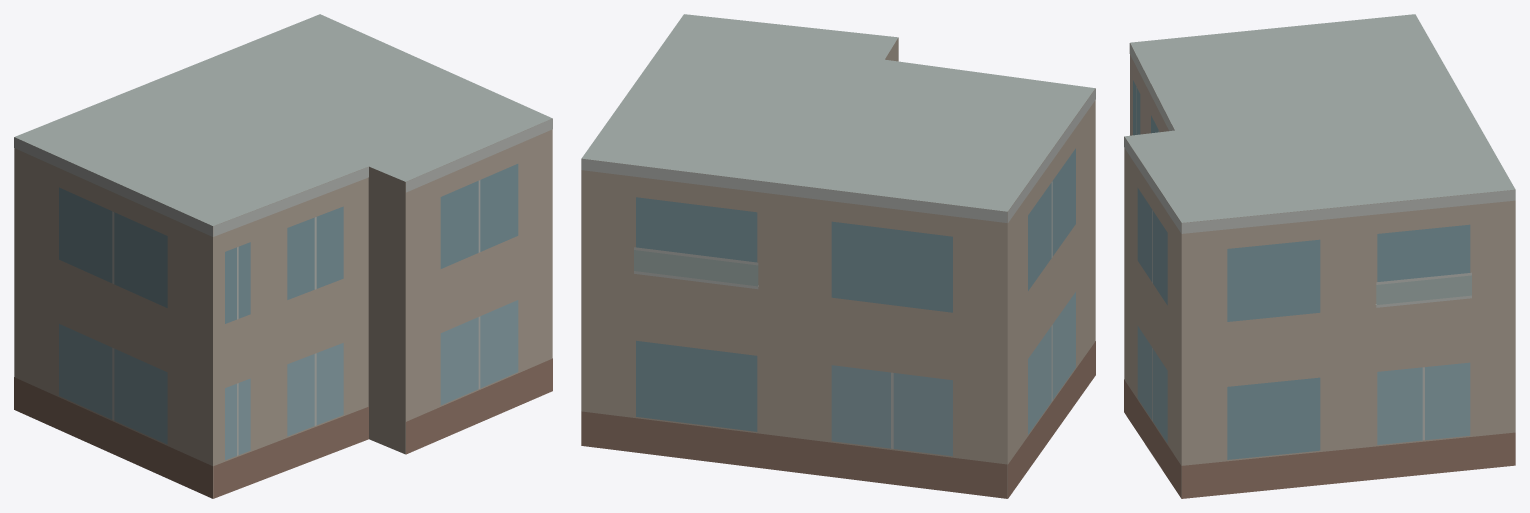
The model's file is survey-upis-32941342.glb.
3 views of the same model, side by side, from view 1: azimuth 30°, elevation 25°; view 2: azimuth 150°, elevation 25°; view 3: azimuth 270°, elevation 25° (orthographic). The views are drawn at different scales.
Visible parts, largest first — view 1: survey-upis-32941342.tmp; view 2: survey-upis-32941342.tmp; view 3: survey-upis-32941342.tmp.
Boxes of the visible parts, x1,y1,x2,y2 form: survey-upis-32941342.tmp: (14, 14, 552, 498); survey-upis-32941342.tmp: (581, 14, 1095, 498); survey-upis-32941342.tmp: (1124, 14, 1515, 498).
Bounding box in the file's own units: 9.91 × 6.1 × 7.85.
